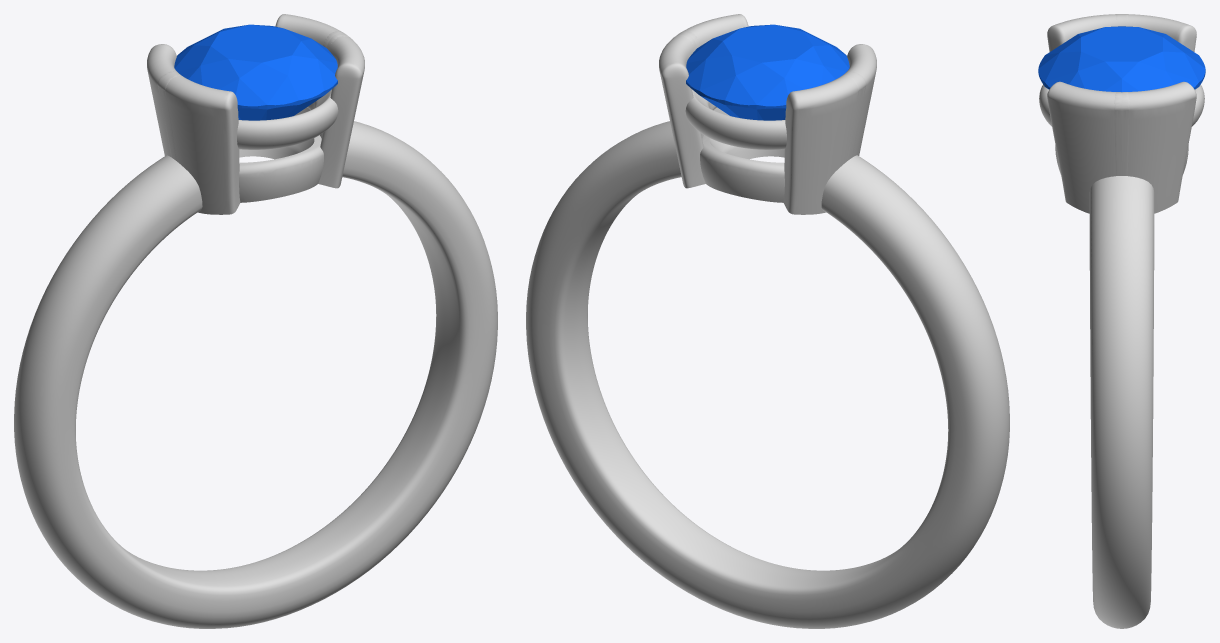
Rendered from bluesapphire-round-platinum-halfmoonbezel-straightband-nosidestones.glb.
3 views of the same model, side by side, from view 1: azimuth 30°, elevation 25°; view 2: azimuth 150°, elevation 25°; view 3: azimuth 270°, elevation 25° (orthographic). The views are drawn at different scales.
Parts seen in each view (by area): view 1: metal, stone; view 2: metal, stone; view 3: metal, stone.
Boxes of the visible parts, x1,y1,x2,y2 form: metal: (14,14,497,628); stone: (174,24,337,120); metal: (526,14,1009,628); stone: (686,24,849,120); metal: (1039,14,1204,628); stone: (1038,26,1205,92).
Bounding box in the file's own units: 20.5 × 23.81 × 6.44.
